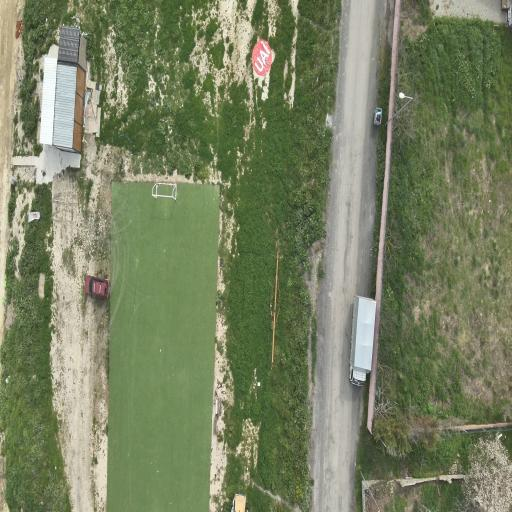UAI: (252, 40, 272, 76)
car: (350, 296, 376, 385), (85, 276, 109, 299)
